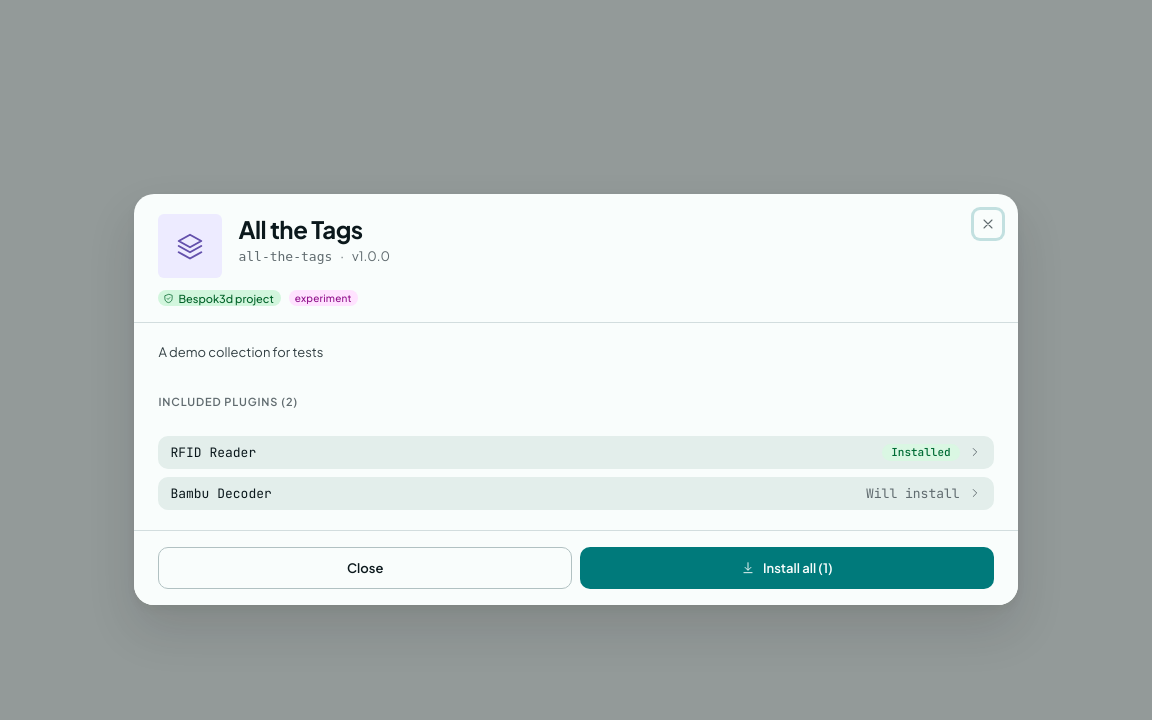
Test: CollectionDetailPanel › captures a config-needing member before installing instead of installing immediately
The width and height of the screenshot is (1152, 720).
Click the button "Install all (1)" at [787, 568], box top-left (580, 547), bottom-right (994, 589)
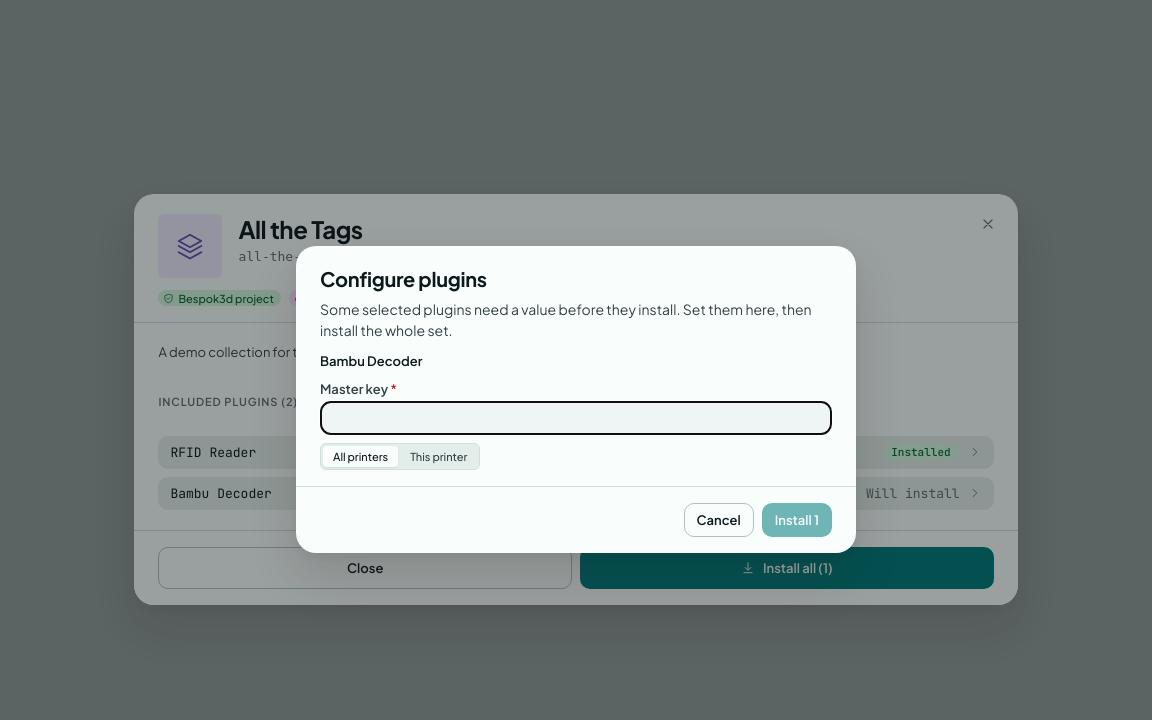
Check: the heading "Configure plugins" is shown, box top-left (320, 266), bottom-right (487, 291)
